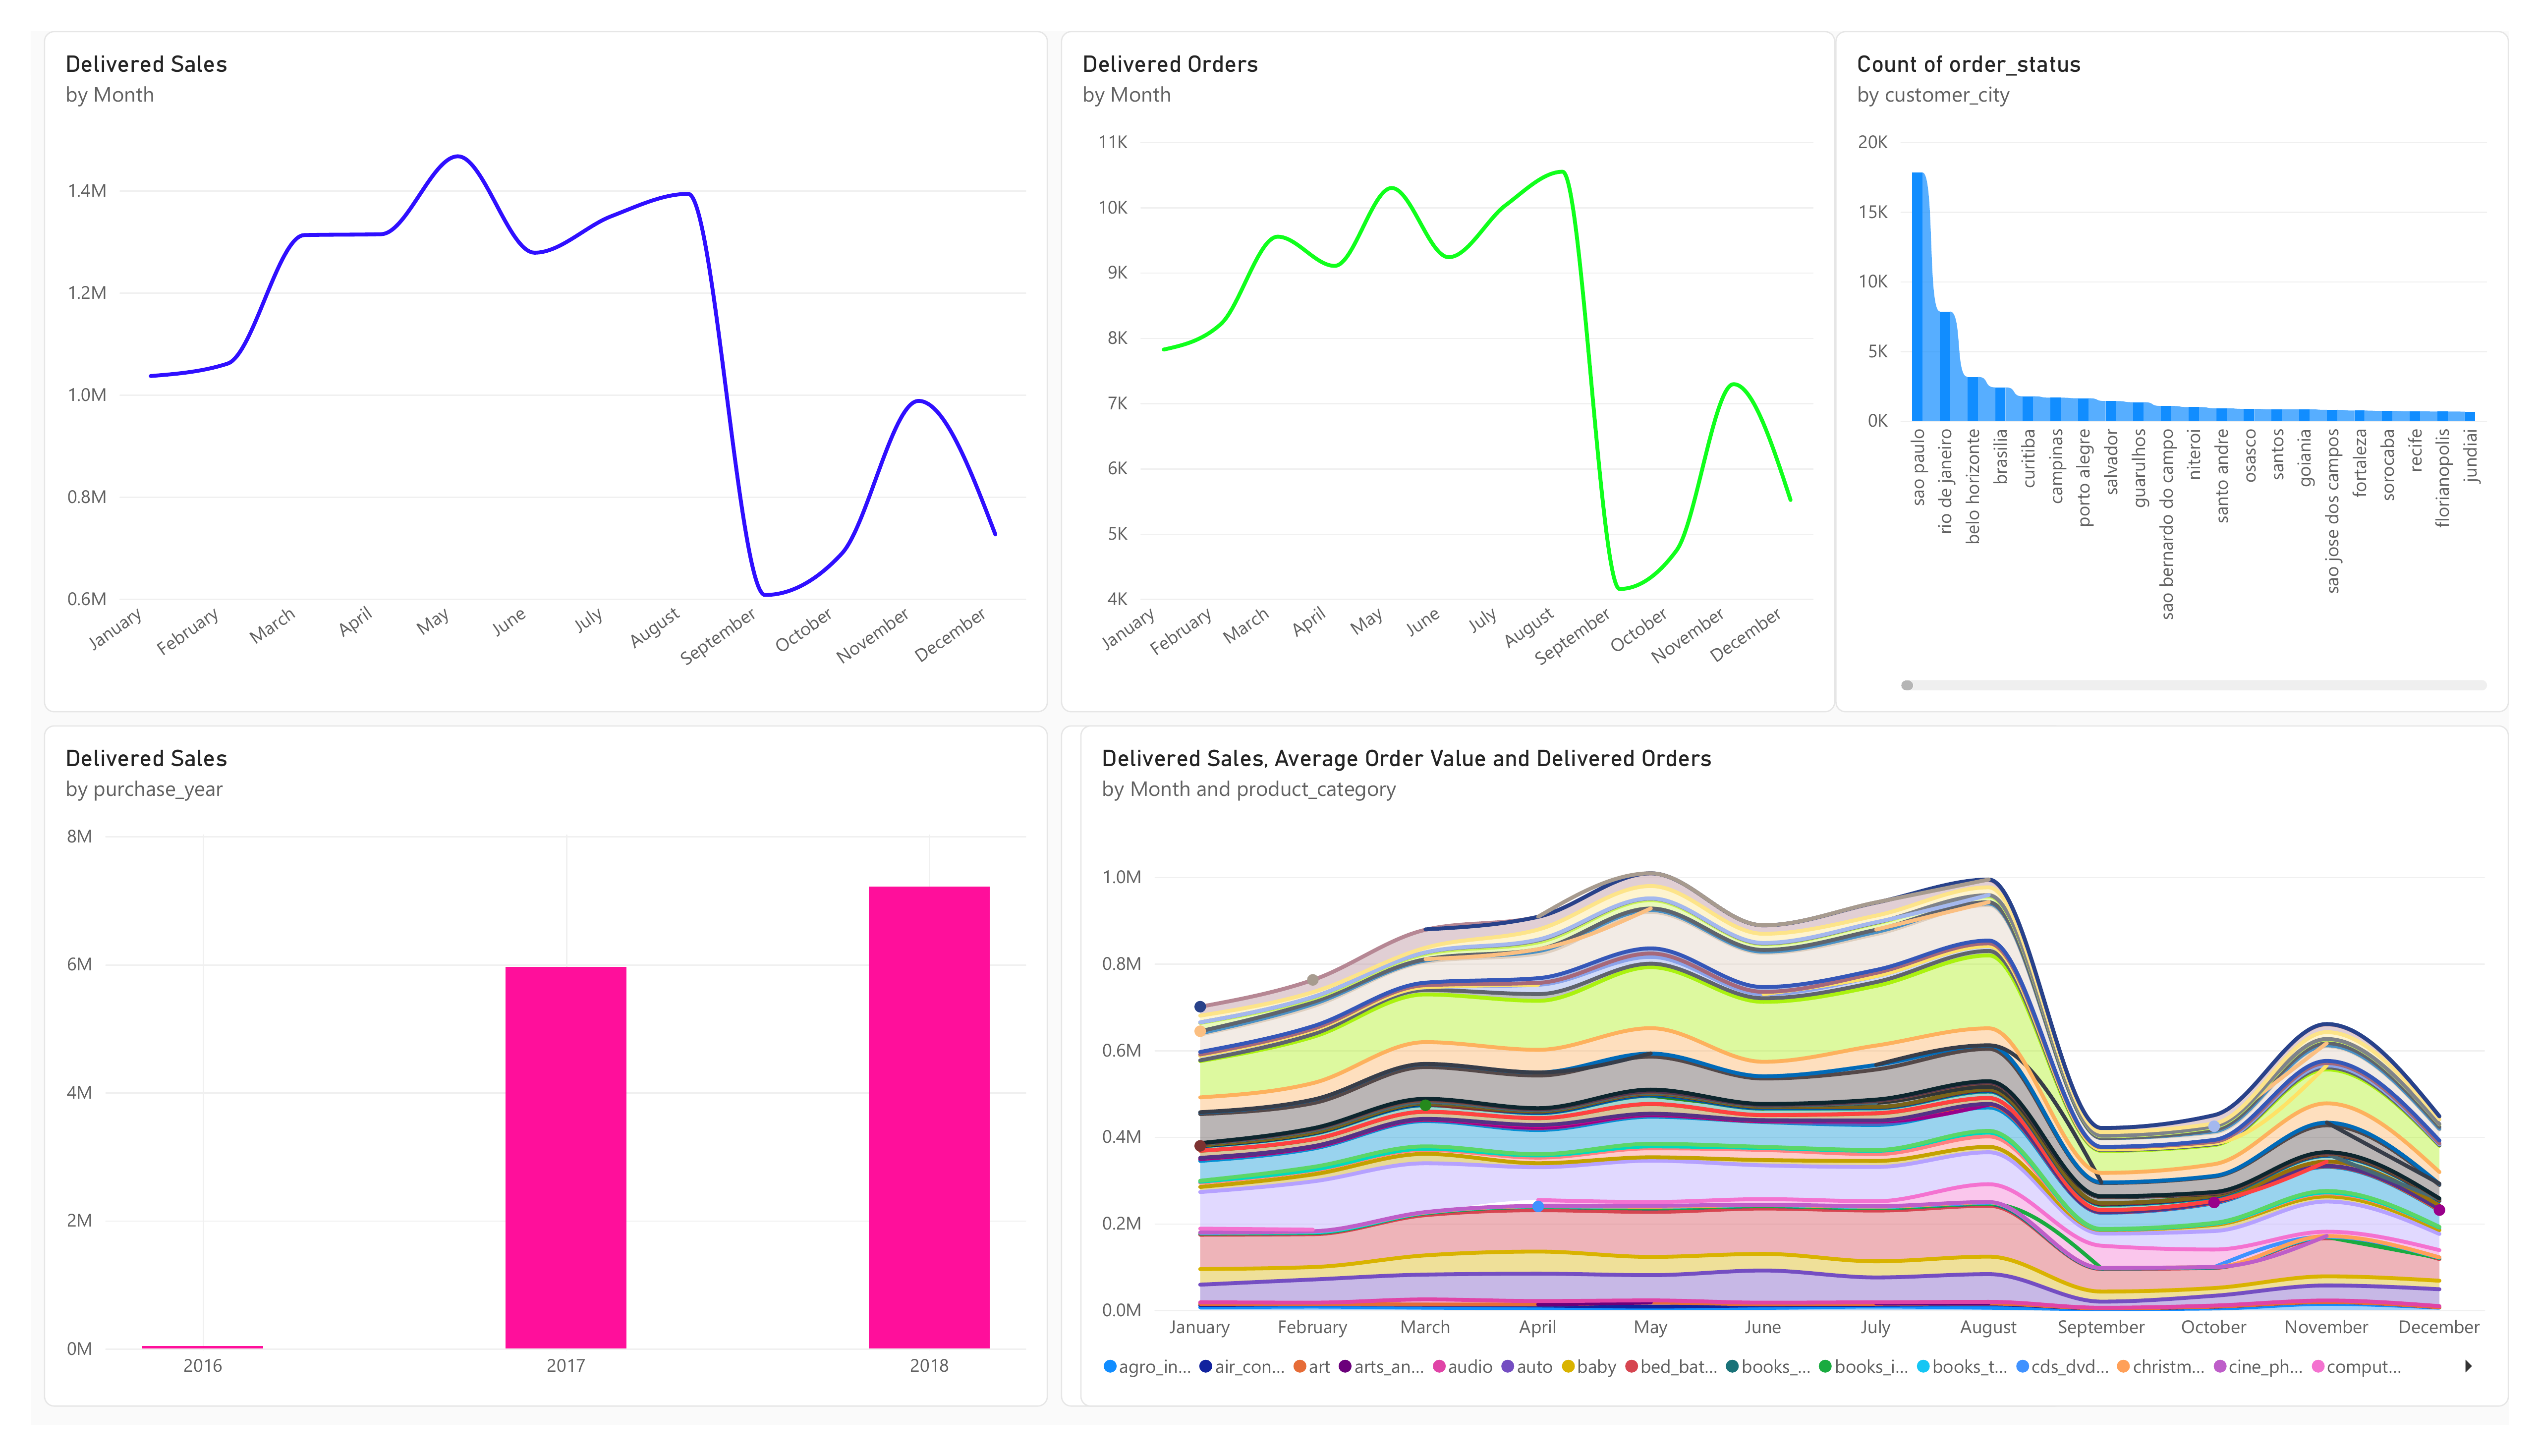

The page's visual inventory and layout, read from the dashboard file:
{"tool":"powerbi","page":{"name":" Trend Analysis","canvas":[1920,1080],"ordinal":2},"visuals":[{"type":"lineChart","fields":{"Category":["SalesAnalysis.purchase_date.Variation.Date Hierarchy.Month"],"Y":["SalesAnalysis.Delivered Sales"]},"box":[851.7,176.7,615,438.3],"z":0},{"type":"clusteredColumnChart","fields":{"Category":["SalesAnalysis.purchase_year"],"Y":["SalesAnalysis.Delivered Sales"]},"box":[278.3,615,573.3,420],"z":1000},{"type":"lineChart","fields":{"Category":["SalesAnalysis.purchase_date.Variation.Date Hierarchy.Month"],"Y":["SalesAnalysis.Delivered Orders"]},"box":[278.3,176.7,573.3,438.3],"z":2000},{"type":"lineChart","fields":{"Category":["SalesAnalysis.Month Start.Variation.Date Hierarchy.Year","SalesAnalysis.Month Start.Variation.Date Hierarchy.Month"],"Y":["SalesAnalysis.Delivered Sales"]},"box":[1466.7,615,453.3,420],"z":3000},{"type":"stackedAreaChart","fields":{"Category":["SalesAnalysis.Month Start.Variation.Date Hierarchy.Month"],"Series":["SalesAnalysis.product_category"],"Y":["SalesAnalysis.Delivered Sales"]},"box":[851.7,615,615,420],"z":4000},{"type":"clusteredBarChart","fields":{"Category":["SalesAnalysis.customer_city"],"Y":["CountNonNull(SalesAnalysis.order_status)","SalesAnalysis.Delivered Orders"]},"box":[1466.7,176.7,453.3,438.3],"z":5000}]}

Visuals, with their boxes in screenshot pixels (x1, y1, x2, y2), scaled from the page's 1920x1080 canvas onto the 2540x1456 screenshot:
lineChart - SalesAnalysis.purchase_date.Variation.Date Hierarchy.Month x SalesAnalysis.Delivered Sales: rect(1127, 238, 1940, 829)
clusteredColumnChart - SalesAnalysis.purchase_year x SalesAnalysis.Delivered Sales: rect(368, 829, 1127, 1396)
lineChart - SalesAnalysis.purchase_date.Variation.Date Hierarchy.Month x SalesAnalysis.Delivered Orders: rect(368, 238, 1127, 829)
lineChart - SalesAnalysis.Month Start.Variation.Date Hierarchy.Year x SalesAnalysis.Month Start.Variation.Date Hierarchy.Month: rect(1940, 829, 2540, 1396)
stackedAreaChart - SalesAnalysis.Month Start.Variation.Date Hierarchy.Month x SalesAnalysis.product_category: rect(1127, 829, 1940, 1396)
clusteredBarChart - SalesAnalysis.customer_city x CountNonNull(SalesAnalysis.order_status): rect(1940, 238, 2540, 829)
